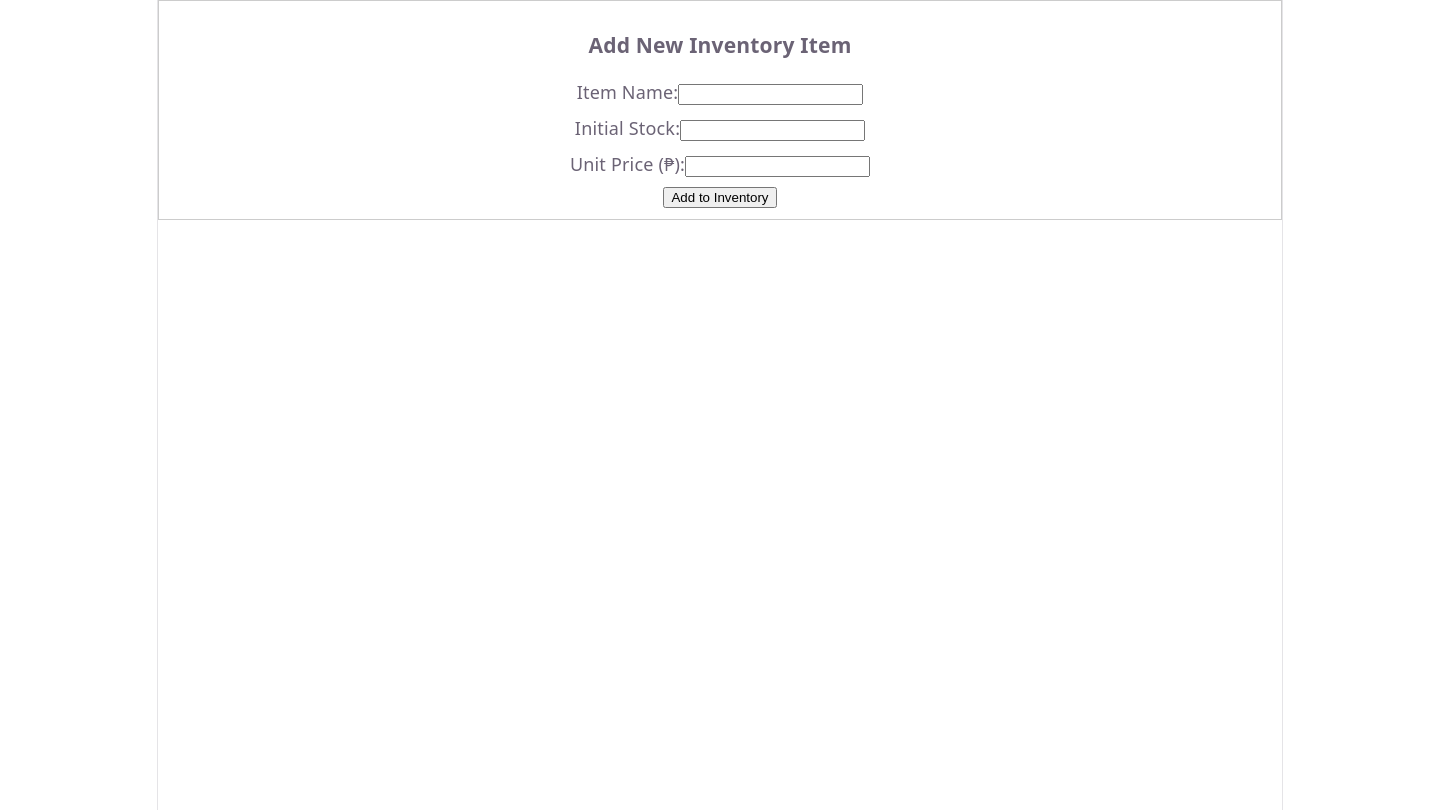
Test: ItemForm Validation (Week 2 Day 1) › should display an error message if the Item Name field is empty on submission
Click the button "Add to Inventory".
click(720, 198)  # box [664, 188, 777, 208]
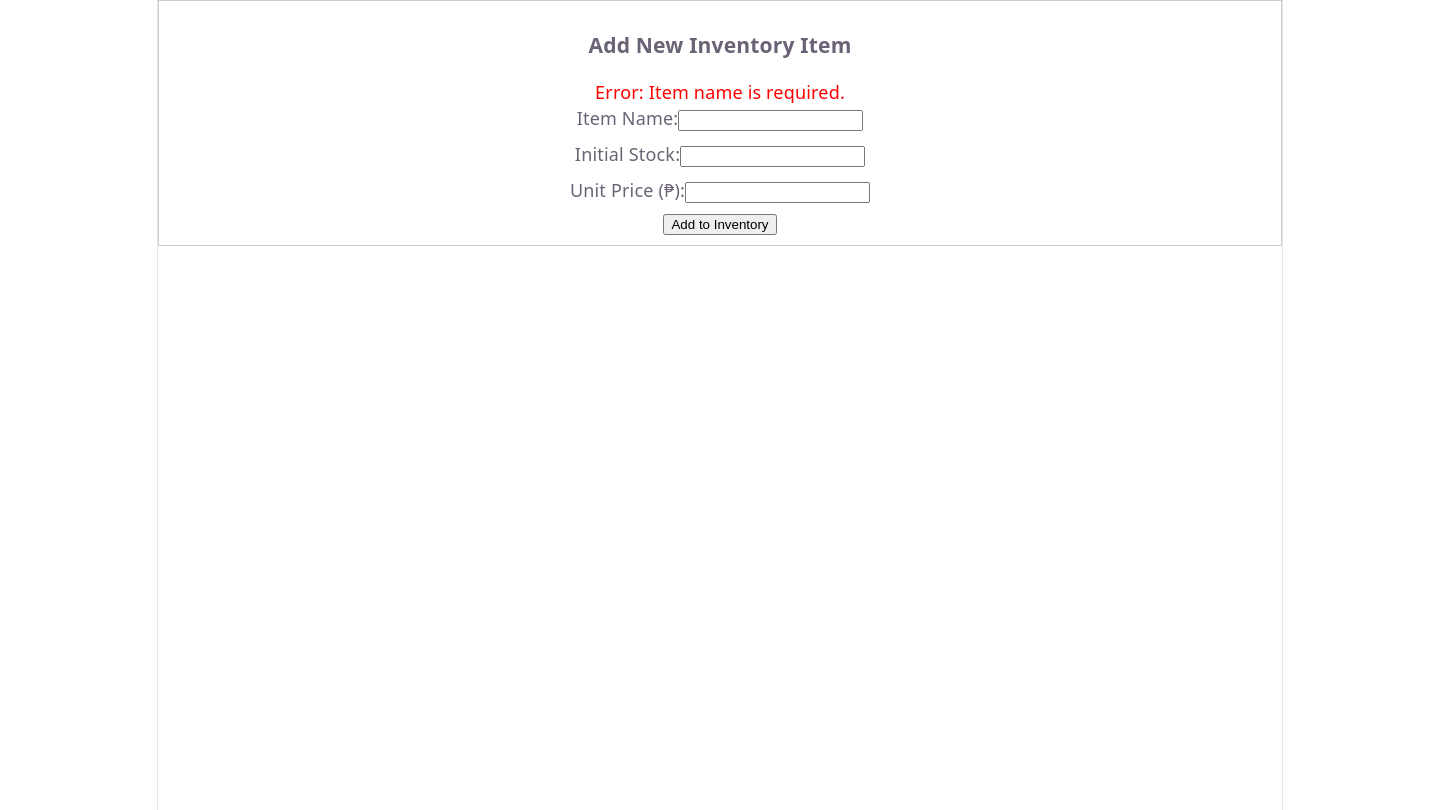
Expected: the text "Error: Item name is required." is shown, [595, 80, 845, 104]
